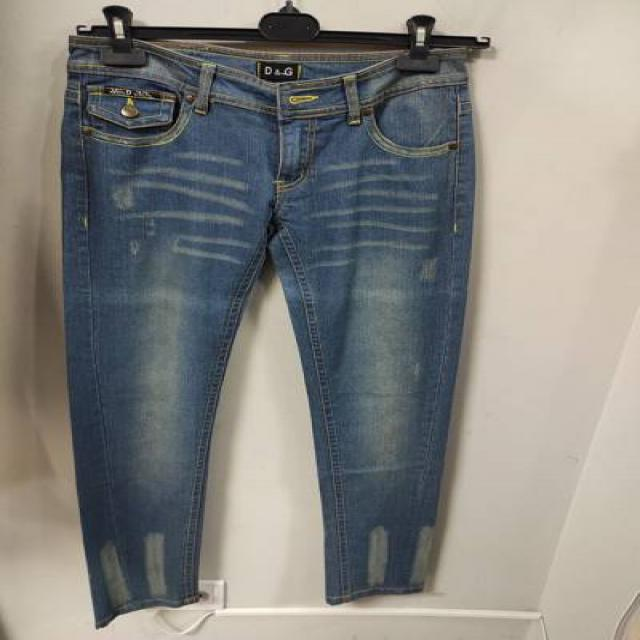Clothes -Biodegradable-: (59, 32, 470, 622)
